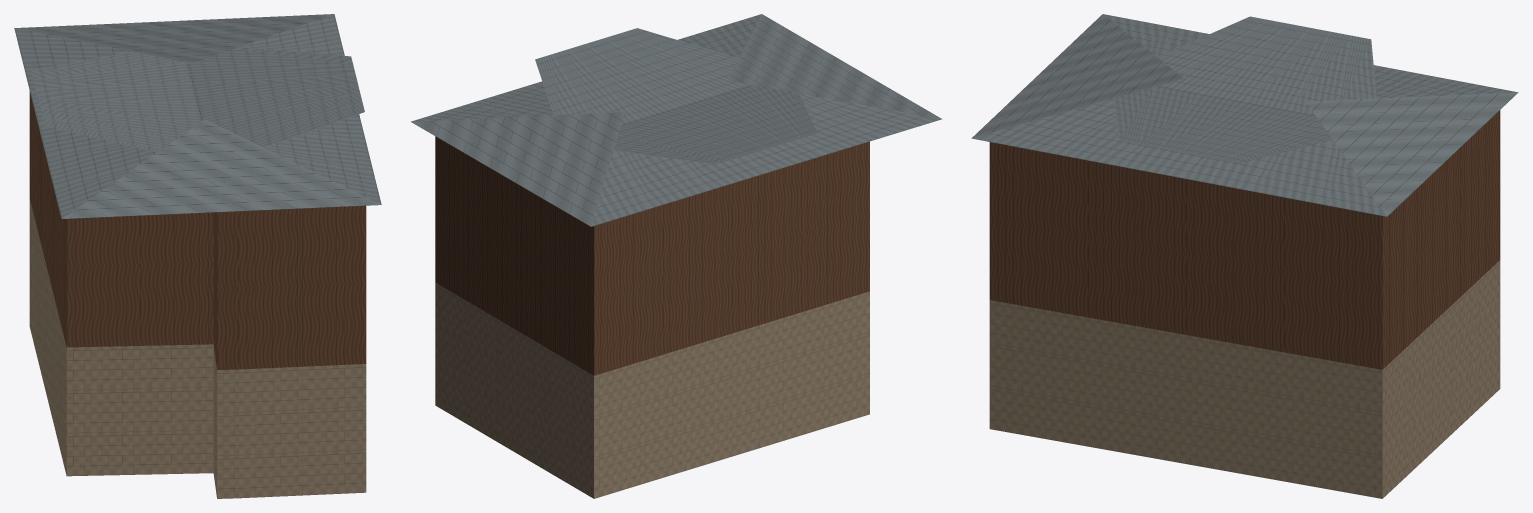
Rendered from bld_c8_37_506.gltf.
3 renders of one model, left to right at view 1: azimuth 30°, elevation 25°; view 2: azimuth 150°, elevation 25°; view 3: azimuth 270°, elevation 25°, orthographic. The views are drawn at different scales.
Parts seen in each view (by area): view 1: bld_c8_37_506; view 2: bld_c8_37_506; view 3: bld_c8_37_506.
Part boxes in pixels (x1,y1,x2,y2): bld_c8_37_506: (14,14,381,498); bld_c8_37_506: (411,14,941,498); bld_c8_37_506: (971,14,1518,498).
Size of the model in its own units: 17.19 by 12.6 by 19.6.
Materials: 3 (3 with a texture image).
